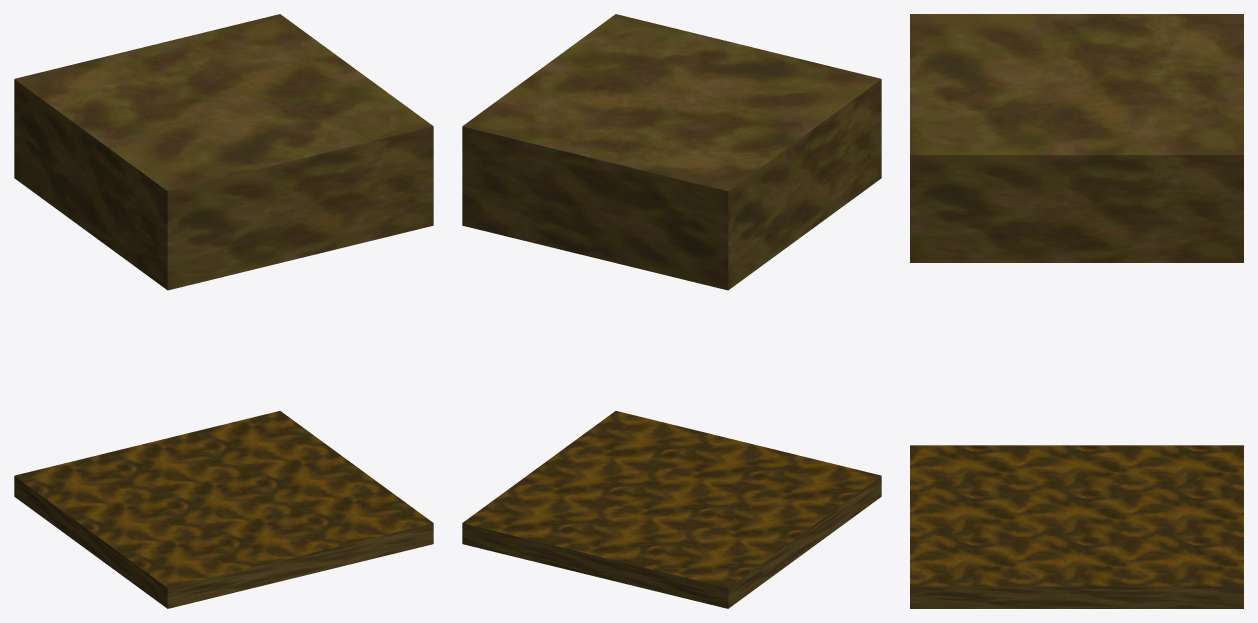
File: sol-plafond.obj
The picture shows the model from 3 angles, left to right: view 1: azimuth 30°, elevation 25°; view 2: azimuth 150°, elevation 25°; view 3: azimuth 270°, elevation 25°; orthographic projection. The views are drawn at different scales.
Visible parts, largest first — view 1: Cube; view 2: Cube; view 3: Cube.
Boxes of the visible parts, left/top/right/bottom form: Cube: left=14, top=14, right=433, bottom=608; Cube: left=462, top=14, right=881, bottom=608; Cube: left=910, top=14, right=1243, bottom=608.
Size of the model in its own units: 2 by 3 by 2.
Materials: 3 (3 with a texture image).
